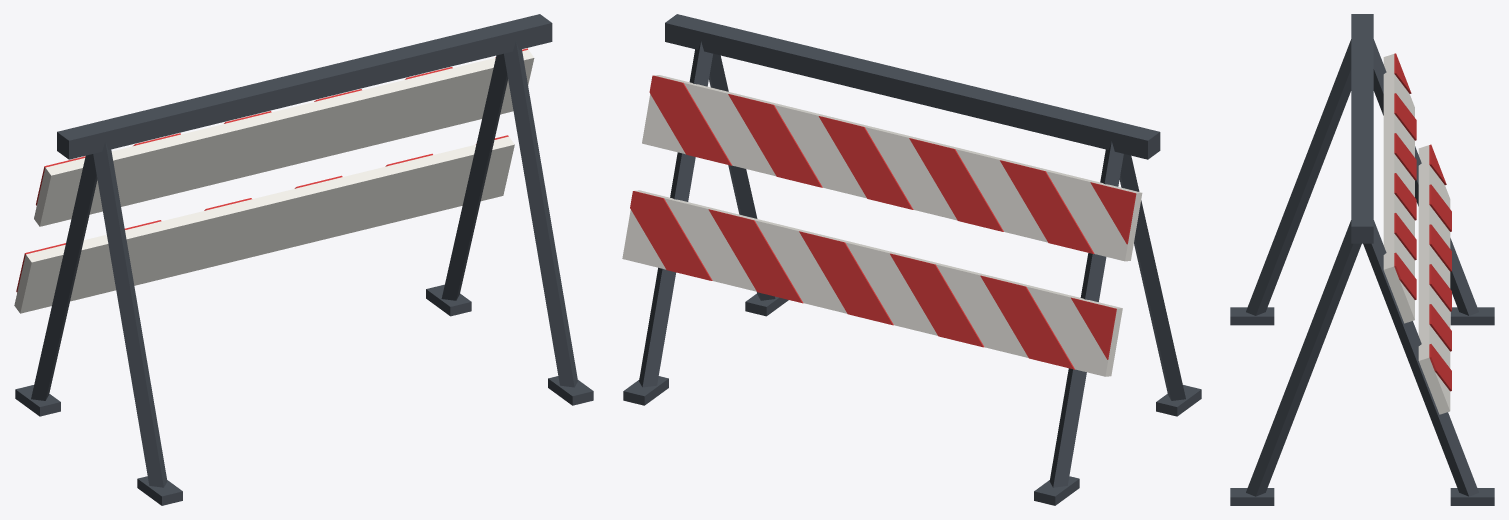
Rendered from road_barrier.glb.
3 renders of one model, left to right at view 1: azimuth 30°, elevation 25°; view 2: azimuth 150°, elevation 25°; view 3: azimuth 270°, elevation 25°, orthographic. The views are drawn at different scales.
Parts seen in each view (by area): view 1: Body; view 2: Body; view 3: Body.
Part boxes in pixels (bbox=[...]): Body: bbox=[14, 14, 593, 505]; Body: bbox=[622, 14, 1201, 505]; Body: bbox=[1230, 14, 1494, 505].
Bounding box in the file's own units: 1.6 × 1.03 × 0.84.
